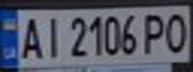0: (103, 11, 124, 56)
1: (84, 12, 106, 57)
2: (63, 12, 87, 59)
6: (118, 11, 142, 56)
A: (15, 14, 45, 61)
I: (39, 14, 66, 61)
O: (160, 9, 193, 55)
P: (139, 10, 172, 56)
